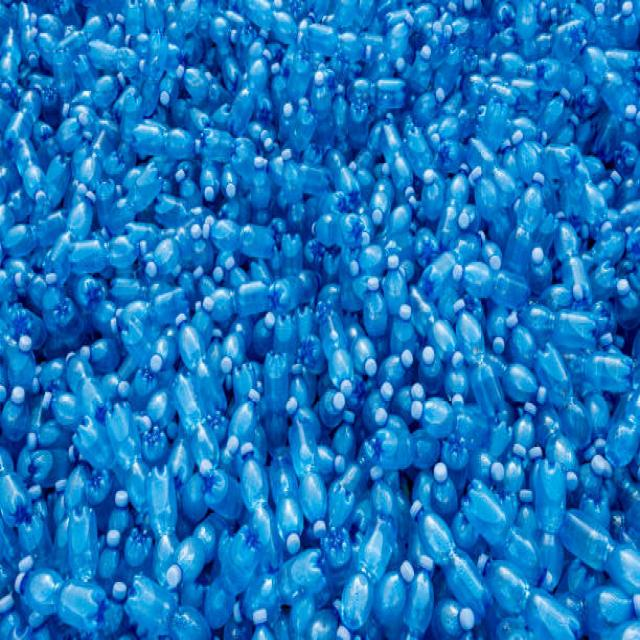plastic: (25, 25, 625, 595)
